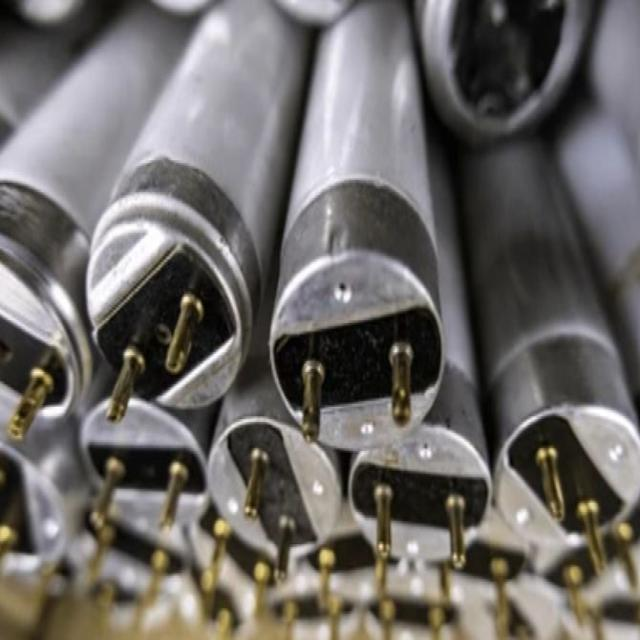electronic: (1, 0, 638, 637), (84, 0, 311, 416), (268, 0, 447, 450)
